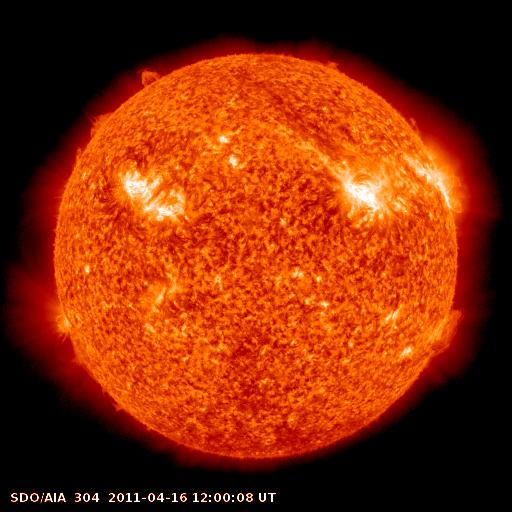prominence: (420, 300, 471, 365), (67, 106, 120, 168), (129, 57, 172, 99), (396, 104, 434, 151), (94, 381, 134, 421), (318, 51, 345, 77)
